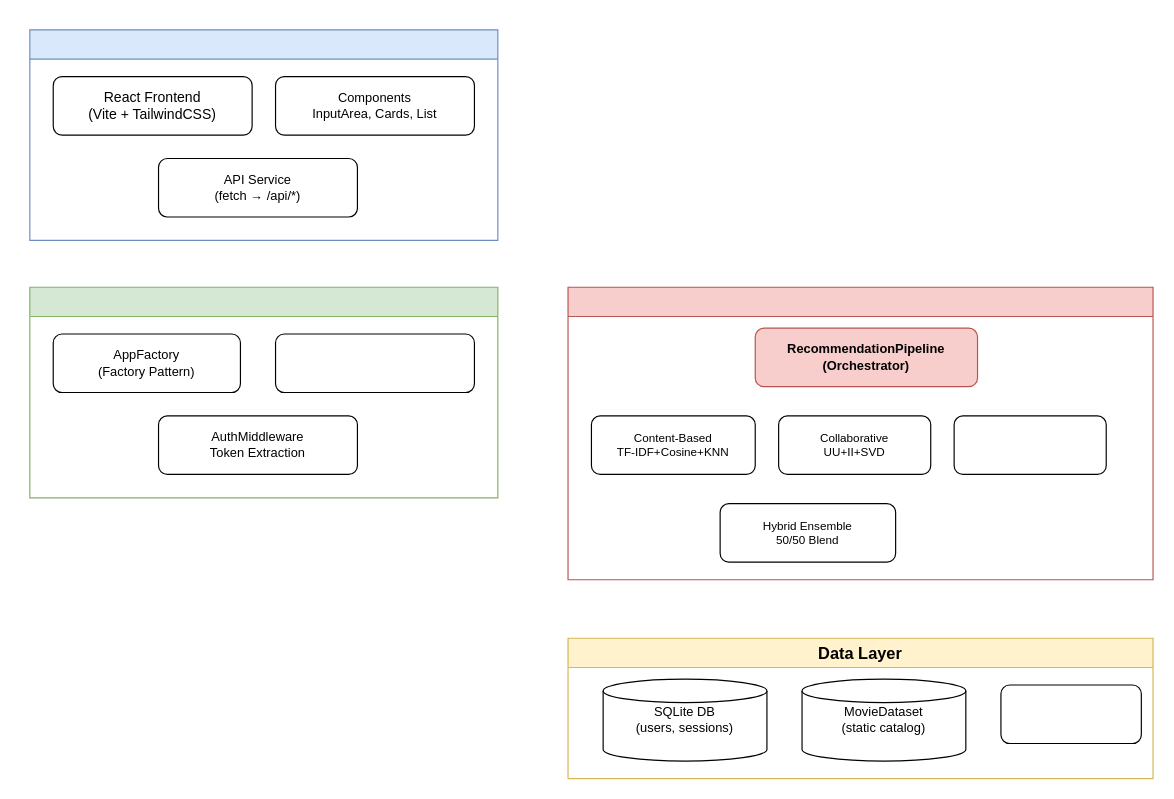
Image size: 1174x799. Some labels were removed from this diagram. The box of each missing label's shape, as (x1, y1, x2, y2) in pixels:
API Layer (Flask): (29, 286, 498, 498)
Client Layer: (29, 29, 498, 240)
ML Engine Layer: (567, 286, 1153, 580)
Routes /api/auth/* , /api/recommend: (274, 333, 474, 393)
Sequential Markov: (953, 415, 1106, 474)
TitleClassifier (O(1) lookup): (1000, 684, 1141, 744)
